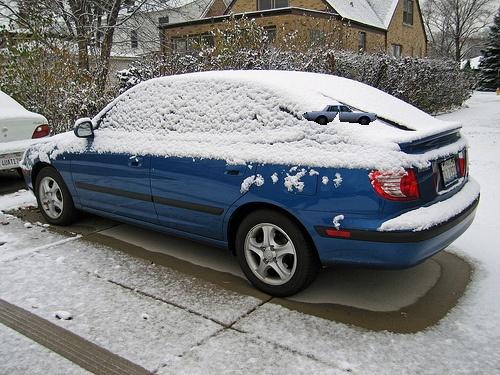tampered: (303, 106, 377, 125)
